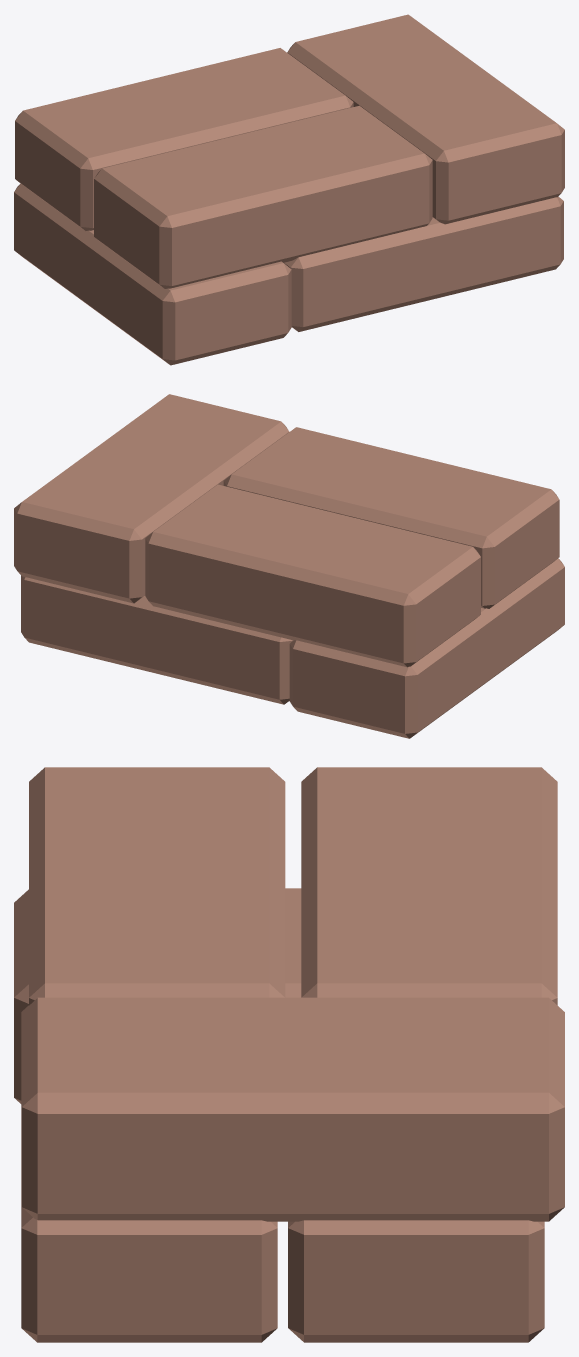
The model's file is props_38.glb.
3 renders of one model, top to bottom at view 1: azimuth 30°, elevation 25°; view 2: azimuth 150°, elevation 25°; view 3: azimuth 270°, elevation 25°, orthographic. The views are drawn at different scales.
Visible parts, largest first — view 1: props_38; view 2: props_38; view 3: props_38.
Boxes of the visible parts, left/top/right/bottom form: props_38: left=14, top=14, right=564, bottom=365; props_38: left=14, top=394, right=564, bottom=738; props_38: left=14, top=767, right=564, bottom=1342.
Bounding box in the file's own units: 0.5611 × 0.1932 × 0.3845.
1 material, 1 textured.
